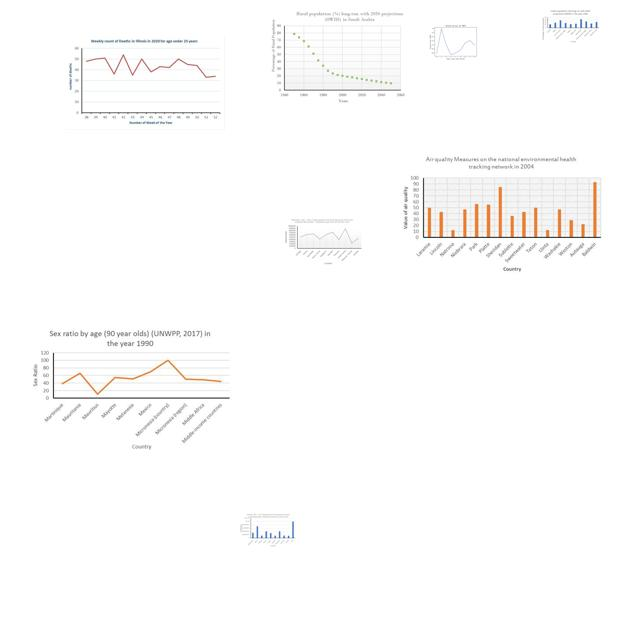Graph: (27, 325, 233, 450), (398, 153, 604, 276), (65, 36, 225, 130), (269, 8, 411, 107), (283, 217, 363, 265), (428, 21, 482, 62), (541, 9, 600, 43), (240, 513, 296, 547)
